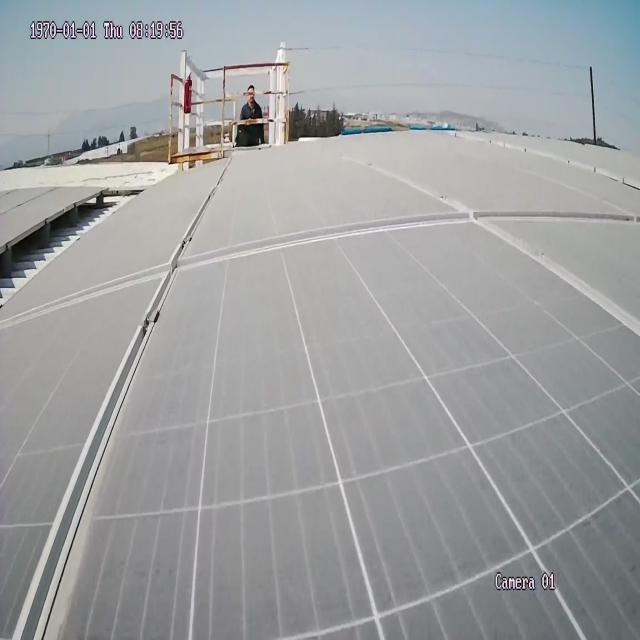interior panel: (0, 144, 640, 640)
outher panel: (0, 182, 156, 329)
